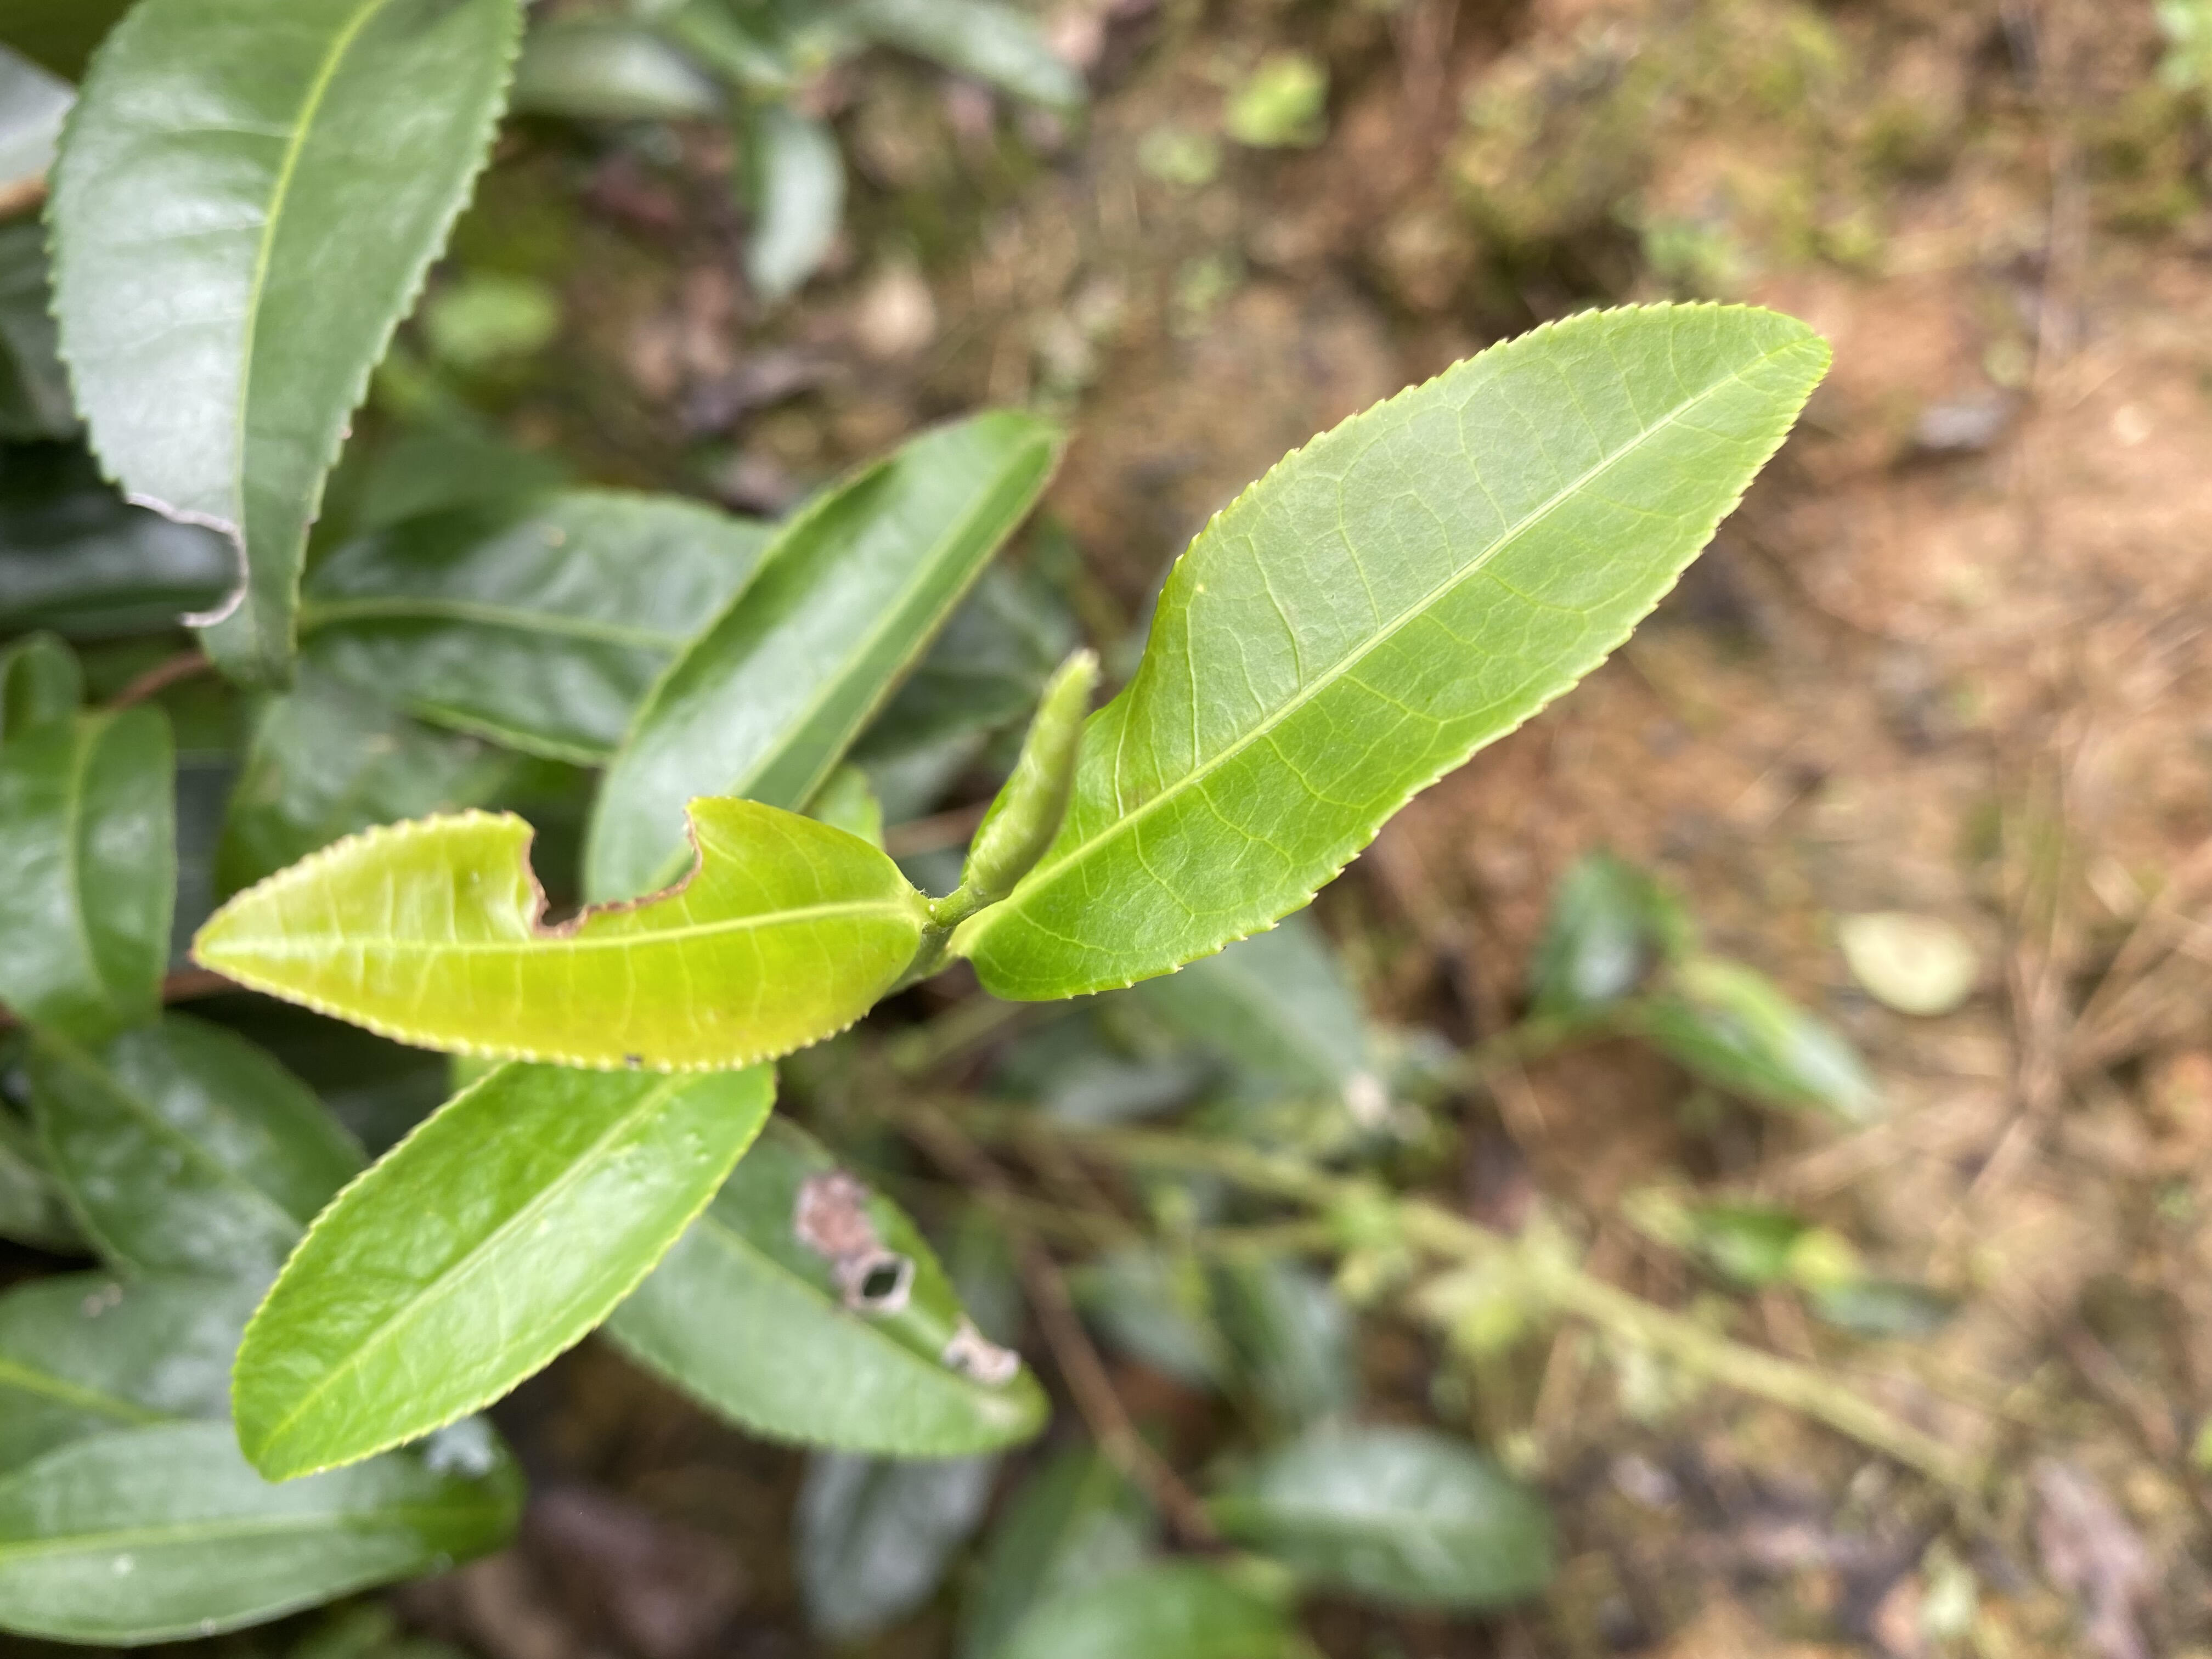chihuo_low: (38, 3, 529, 692), (192, 793, 934, 1080)
healthy: (958, 300, 1832, 1004), (228, 1060, 779, 1480)
tanju_high: (603, 1112, 1045, 1455)
